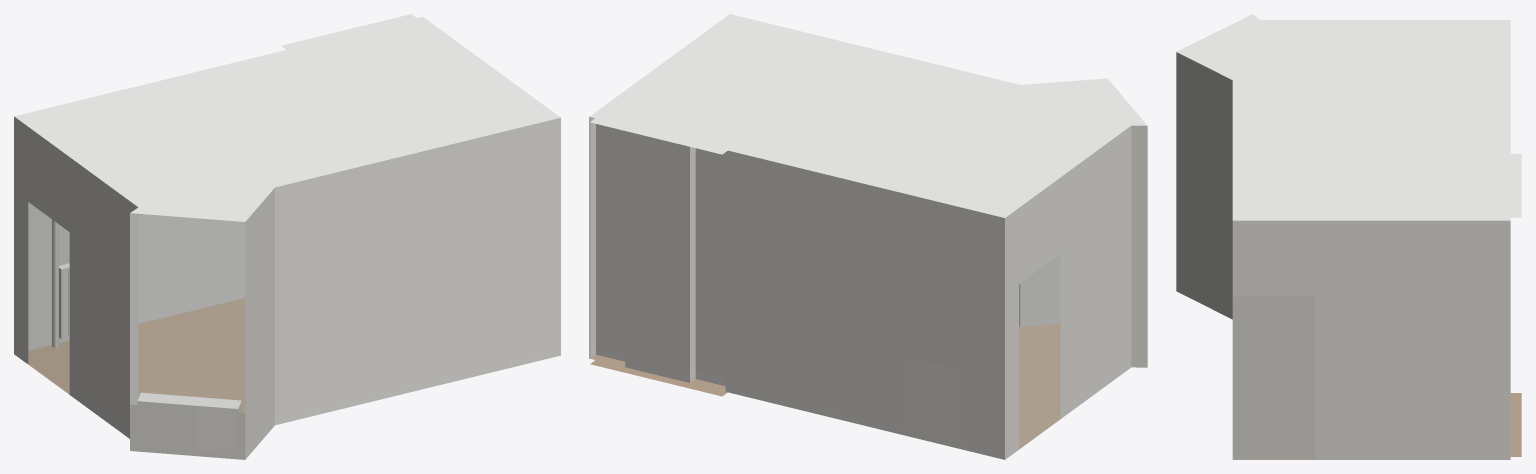
The model's file is wohnzimmer.glb.
3 renders of one model, left to right at view 1: azimuth 30°, elevation 25°; view 2: azimuth 150°, elevation 25°; view 3: azimuth 270°, elevation 25°, orthographic.
Parts seen in each view (by area): view 1: wz_wand_c, wz_decke, wz_fenster_erker_glas, wz_wand_d, wz_boden, wz_wand_a_mitte, wz_erker_seite_ost, wz_tuer_balkon_glas, wz_erker_front, wz_wand_a_west, wz_heizkoerper_erker, wz_erker_seite_west (+4 smaller); view 2: wz_decke, wz_wand_a_mitte, wz_wand_d, wz_wand_a_zwischen, wz_wand_a_heizk, wz_wand_a_west, wz_wand_a_vorsprung_b_front, wz_wand_a_vorsprung_a_front, wz_tuer_balkon_glas, wz_boden, wz_erker_seite_west, wz_heizkoerper_nord (+4 smaller); view 3: wz_decke, wz_wand_b, wz_tuer_eingang_blatt, wz_erker_seite_ost, wz_boden.
Boxes of the visible parts, x1,y1,x2,y2 form: wz_wand_c: (275,117,560,425); wz_decke: (14,14,560,221); wz_fenster_erker_glas: (130,213,244,412); wz_wand_d: (14,116,137,438); wz_boden: (28,298,245,413); wz_wand_a_mitte: (138,213,245,323); wz_erker_seite_ost: (245,188,274,459); wz_tuer_balkon_glas: (29,203,68,392); wz_erker_front: (130,404,245,459); wz_wand_a_west: (28,202,51,350); wz_heizkoerper_erker: (137,392,241,455); wz_erker_seite_west: (130,213,138,404); wz_decke: (589,14,1146,217); wz_wand_a_mitte: (725,150,904,435); wz_wand_d: (1005,126,1131,459); wz_wand_a_zwischen: (625,131,689,382); wz_wand_a_heizk: (905,194,961,448); wz_wand_a_west: (961,207,1004,459); wz_wand_a_vorsprung_b_front: (695,148,725,386); wz_wand_a_vorsprung_a_front: (596,124,625,361); wz_tuer_balkon_glas: (1019,255,1059,447); wz_boden: (590,323,1061,449); wz_erker_seite_west: (1131,125,1147,367); wz_heizkoerper_nord: (905,357,961,440); wz_decke: (1176,14,1521,220); wz_wand_b: (1232,220,1510,459); wz_tuer_eingang_blatt: (1232,296,1315,459); wz_erker_seite_ost: (1176,52,1232,318); wz_boden: (1233,393,1521,459).
Size of the model in its own units: 5.68 by 3.07 by 4.02.
